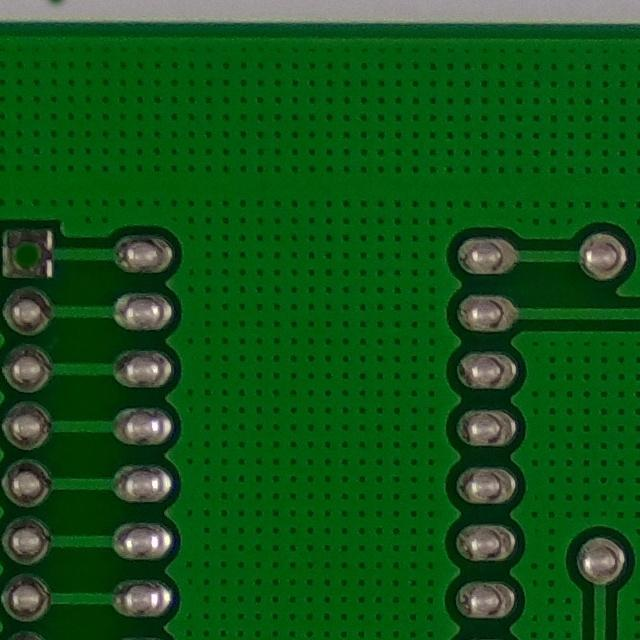missing_hole: (0, 225, 53, 278)
